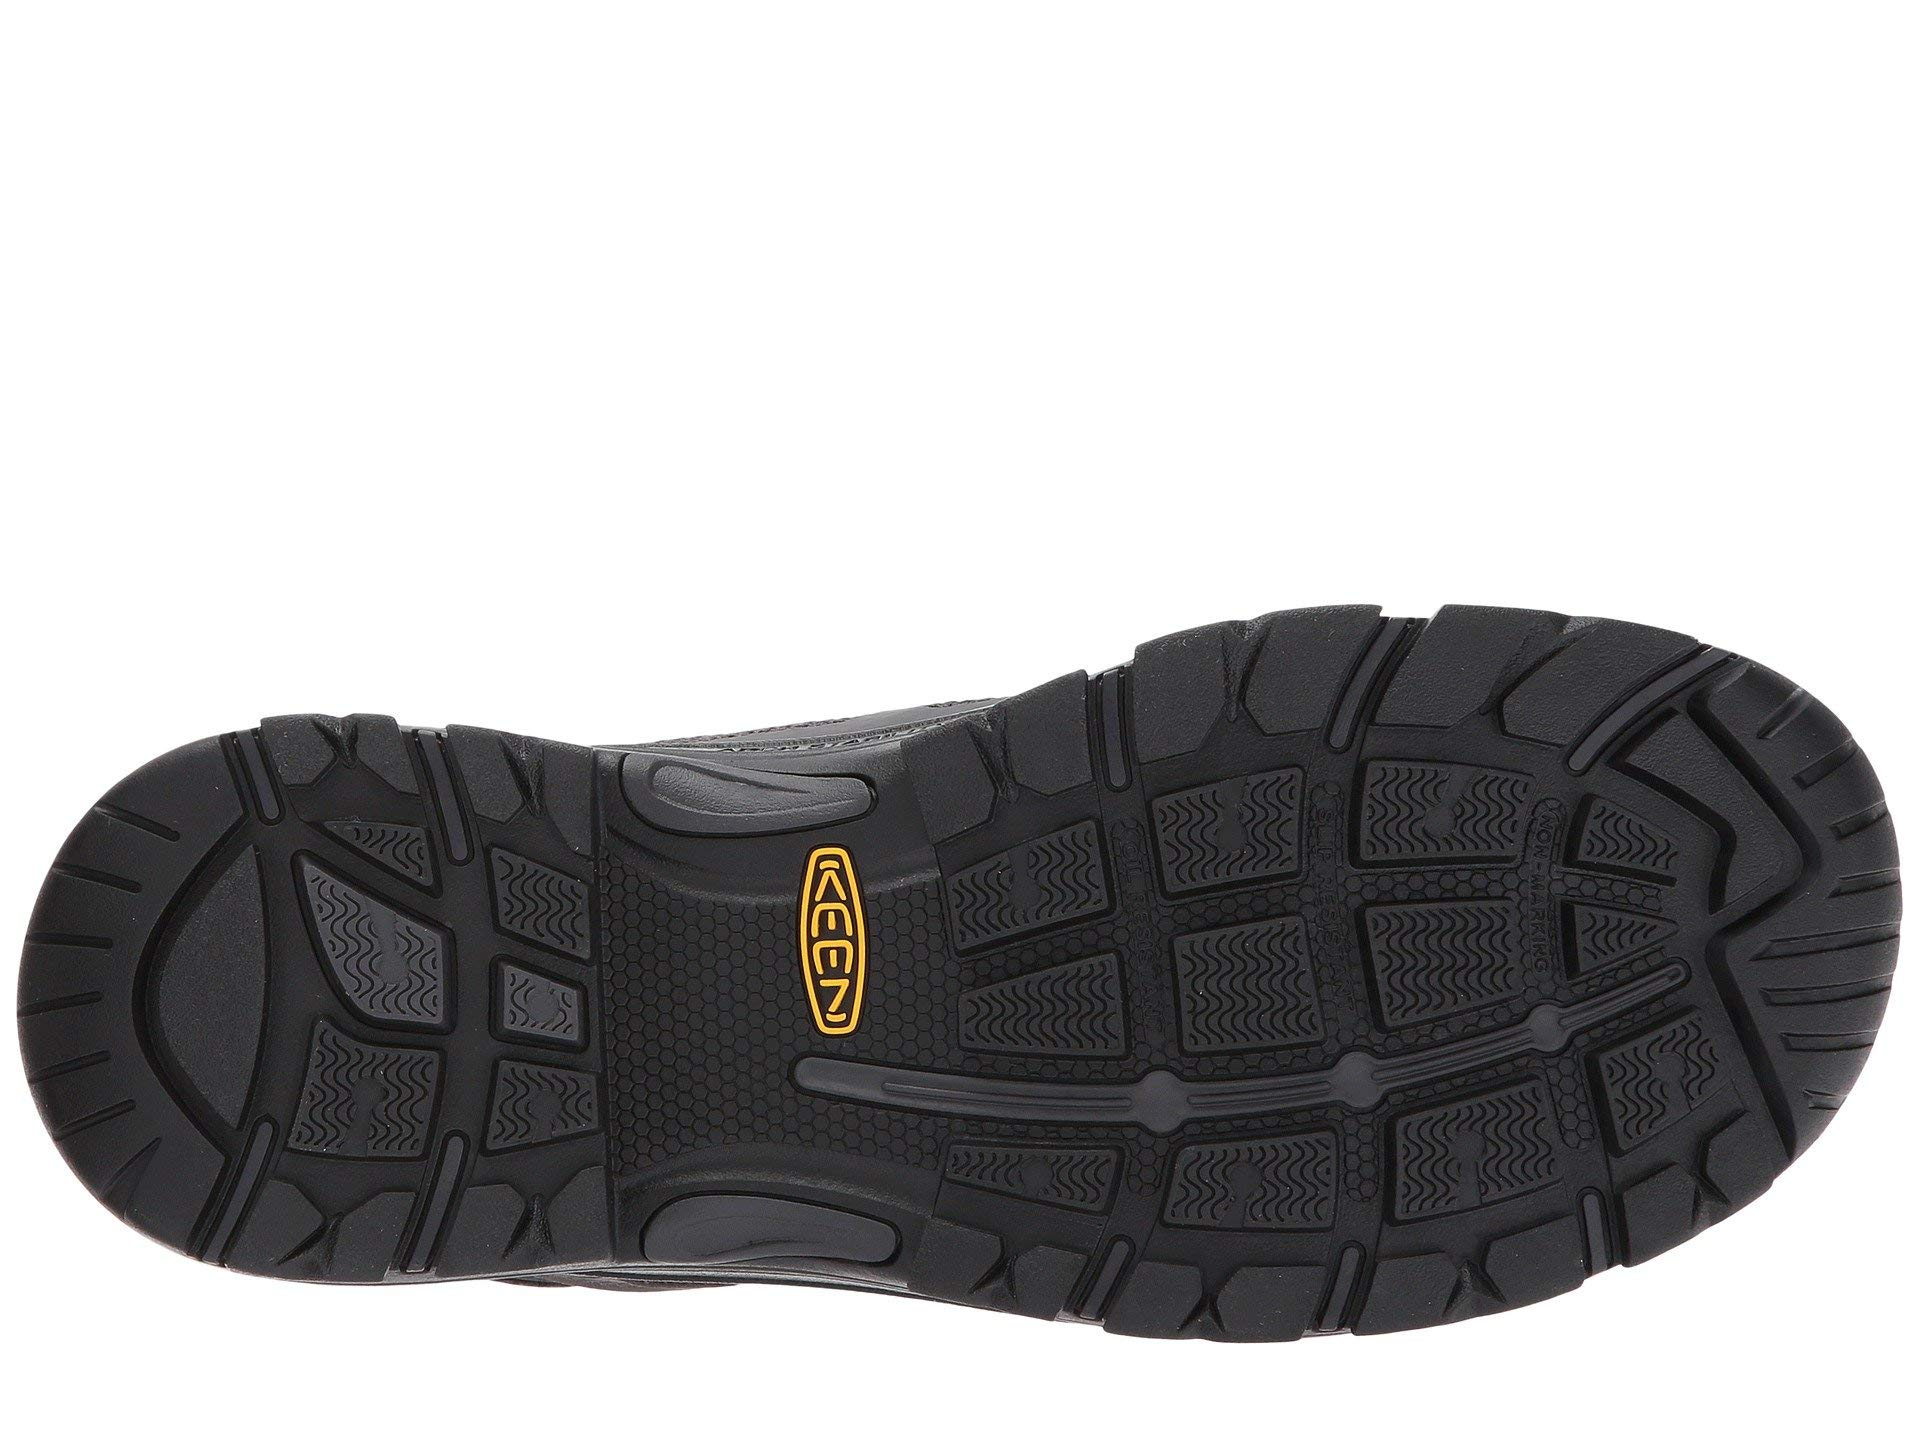chevron: (284, 790, 643, 1187), (1131, 768, 1433, 1125), (1498, 865, 1719, 1062)
circle: (284, 790, 643, 1187), (1131, 768, 1433, 1125), (1498, 865, 1719, 1062), (664, 930, 794, 1071)
line: (1131, 768, 1433, 1125)
quad: (284, 790, 643, 1187), (1131, 768, 1433, 1125)
text: (1498, 865, 1719, 1062)
triangle: (284, 790, 643, 1187), (1498, 865, 1719, 1062)
